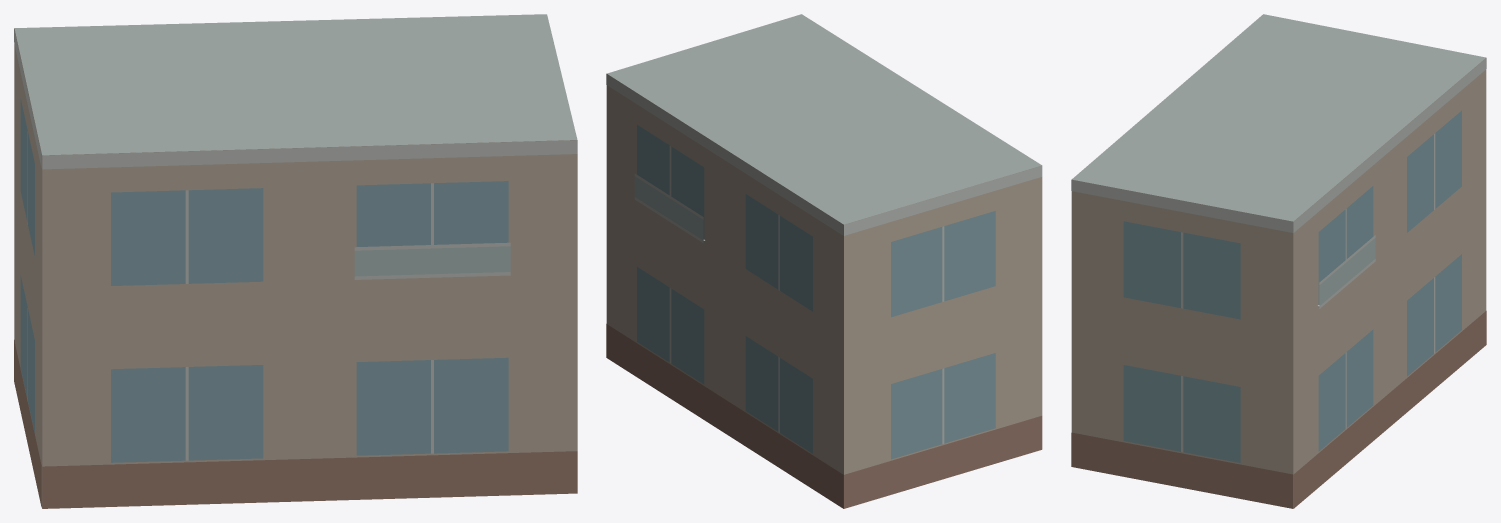
File: survey-upis-32821473.glb
3 renders of one model, left to right at view 1: azimuth 30°, elevation 25°; view 2: azimuth 150°, elevation 25°; view 3: azimuth 270°, elevation 25°, orthographic. The views are drawn at different scales.
Visible parts, largest first — view 1: survey-upis-32821473.tmp; view 2: survey-upis-32821473.tmp; view 3: survey-upis-32821473.tmp.
Part boxes in pixels (box(x1,y1,x2,y2)): survey-upis-32821473.tmp: box(14, 14, 577, 508); survey-upis-32821473.tmp: box(606, 14, 1042, 508); survey-upis-32821473.tmp: box(1071, 14, 1486, 508).
Size of the model in its own units: 9.46 by 6.1 by 8.
